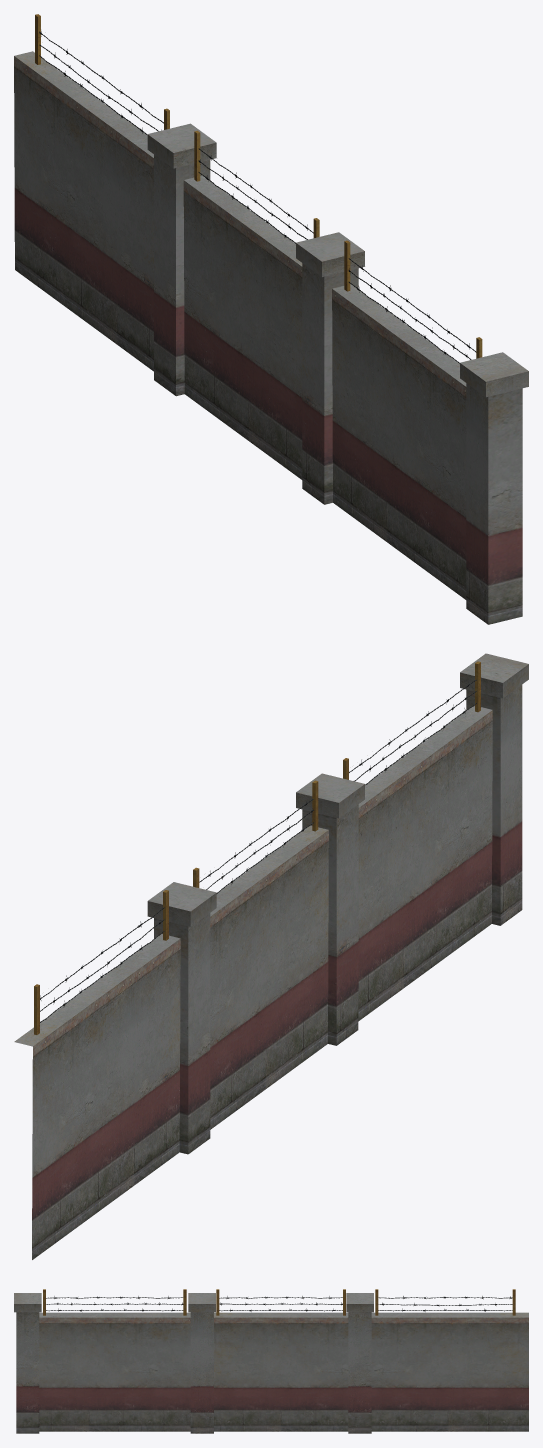
The model's file is Cover_Jz0013b.glb.
3 renders of one model, top to bottom at view 1: azimuth 30°, elevation 25°; view 2: azimuth 150°, elevation 25°; view 3: azimuth 270°, elevation 25°, orthographic. The views are drawn at different scales.
Parts seen in each view (by area): view 1: xiutz_jz0013b; view 2: xiutz_jz0013b; view 3: xiutz_jz0013b.
Part boxes in pixels (x1,y1,x2,y2): xiutz_jz0013b: (14,14,528,624); xiutz_jz0013b: (14,653,528,1259); xiutz_jz0013b: (14,1289,528,1433).
Bounding box in the file's own units: 0.74 × 4.3 × 14.38.
Materials: 1 (1 with a texture image).
